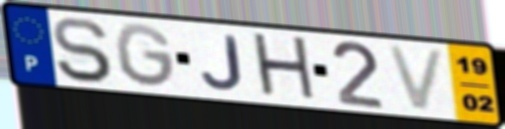2: (331, 39, 386, 111)
G: (112, 21, 178, 90)
H: (249, 31, 321, 106)
J: (199, 32, 247, 92)
S: (50, 16, 116, 86)
V: (383, 43, 450, 114)
